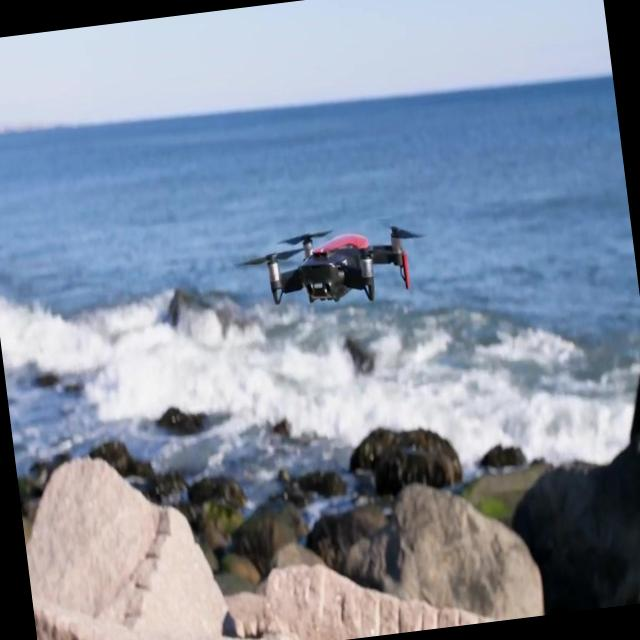drone: (230, 212, 430, 318)
